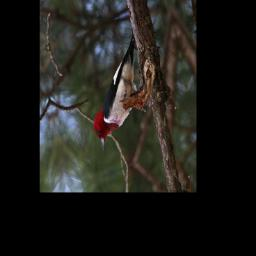Woodpecker: (78, 27, 154, 157)
